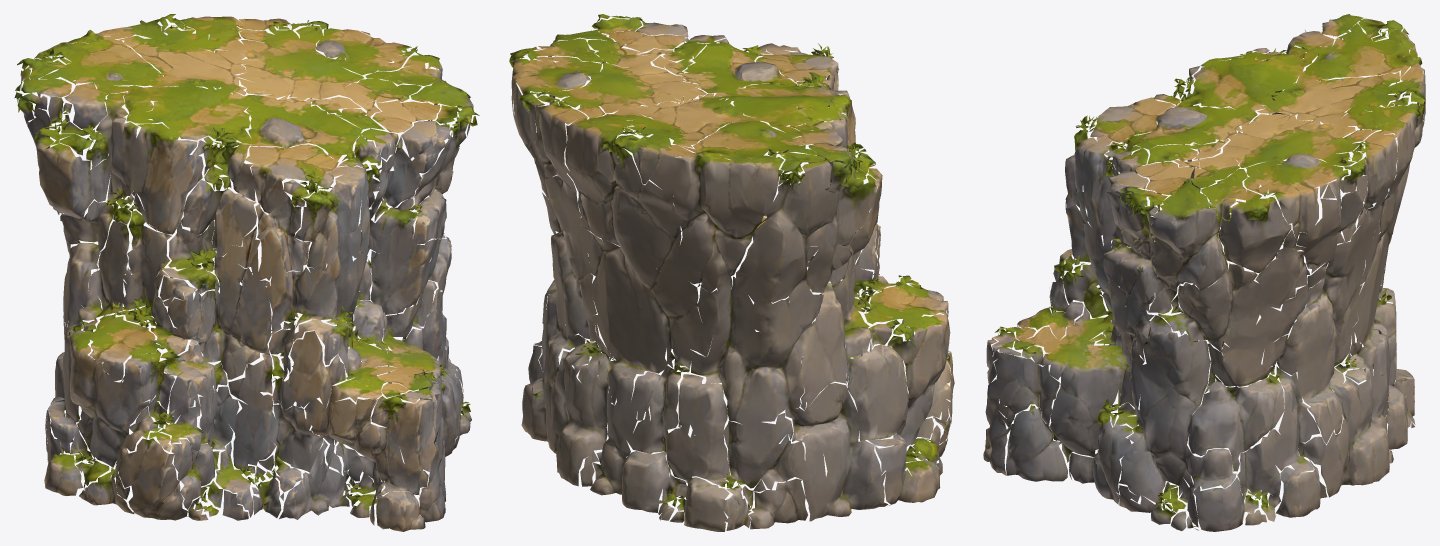
The model's file is Acantilado_2.glb.
3 renders of one model, left to right at view 1: azimuth 30°, elevation 25°; view 2: azimuth 150°, elevation 25°; view 3: azimuth 270°, elevation 25°, orthographic. The views are drawn at different scales.
Parts seen in each view (by area): view 1: tripo_node_2336c561-4e9d-456f-9ca1-d0014a1f078d; view 2: tripo_node_2336c561-4e9d-456f-9ca1-d0014a1f078d; view 3: tripo_node_2336c561-4e9d-456f-9ca1-d0014a1f078d.
Part boxes in pixels (x1,y1,x2,y2): tripo_node_2336c561-4e9d-456f-9ca1-d0014a1f078d: (14,14,479,531); tripo_node_2336c561-4e9d-456f-9ca1-d0014a1f078d: (509,14,954,531); tripo_node_2336c561-4e9d-456f-9ca1-d0014a1f078d: (983,14,1425,531).
Size of the model in its own units: 0.977 by 0.8587 by 0.967.
1 material, 1 textured.
